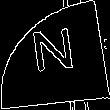N_S: (29, 27, 81, 83)
